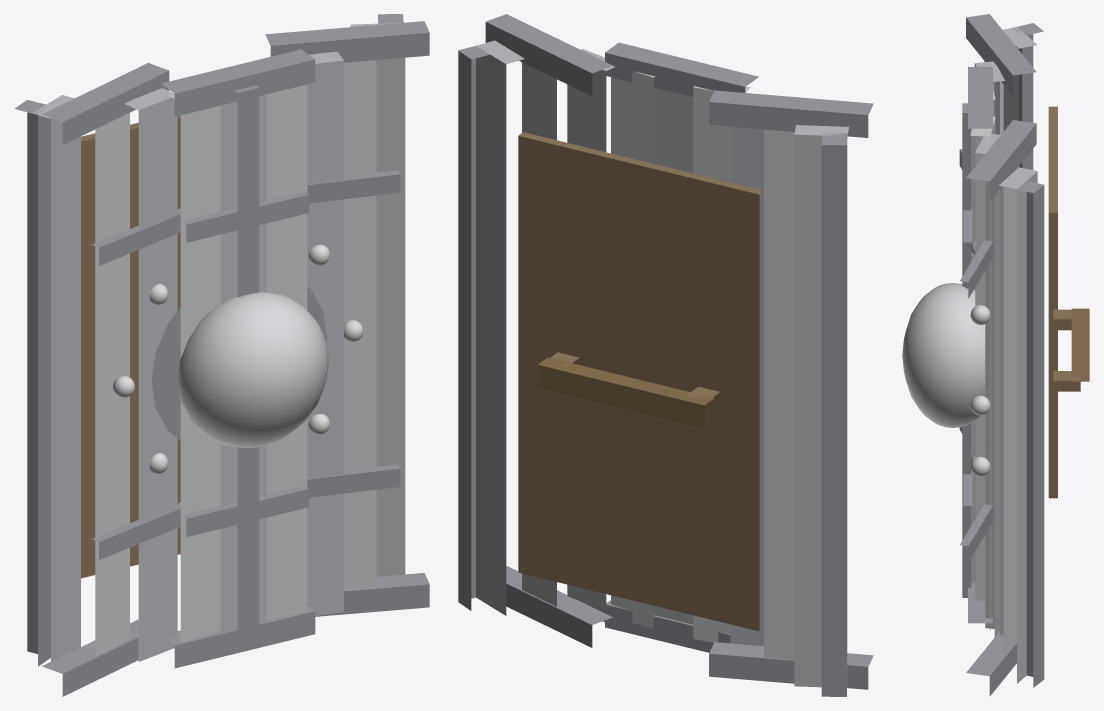
File: steel_shield.glb
The picture shows the model from 3 angles, left to right: view 1: azimuth 30°, elevation 25°; view 2: azimuth 150°, elevation 25°; view 3: azimuth 270°, elevation 25°; orthographic projection. The views are drawn at different scales.
Visible parts, largest first — view 1: SteelShield; view 2: SteelShield; view 3: SteelShield.
Part boxes in pixels (bbox=[...]): SteelShield: bbox=[14, 14, 429, 696]; SteelShield: bbox=[458, 14, 873, 696]; SteelShield: bbox=[902, 14, 1089, 696].
Bounding box in the file's own units: 0.8853 × 1.25 × 0.412.
